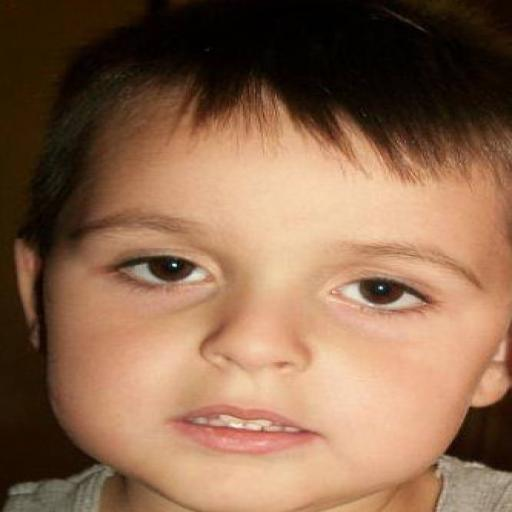Autism: (18, 6, 512, 512)
